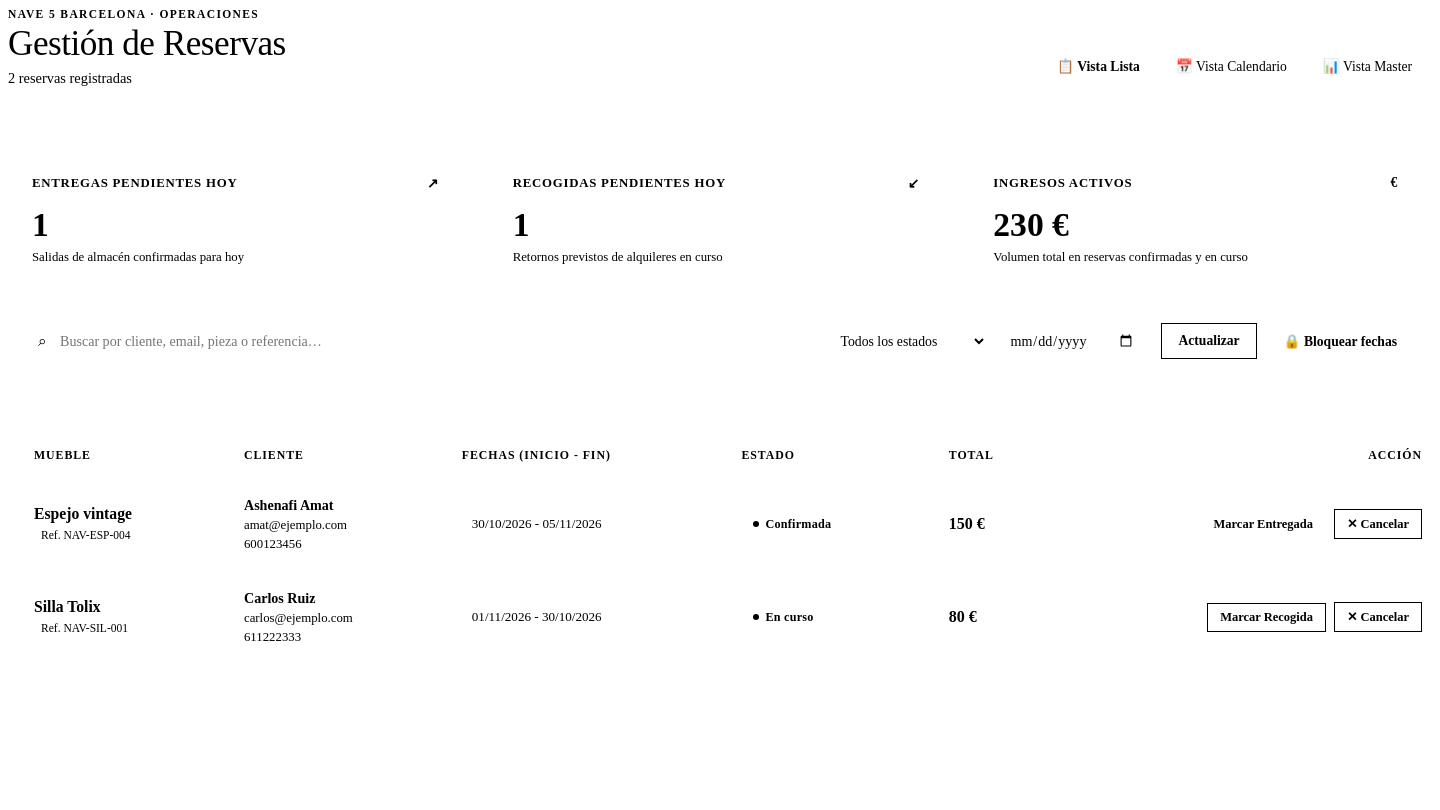
Scenario: ReservasTab — Panel Rediseñado de Reservas (Editorial, KPIs, 3 Vistas) › Buscador y Filtros › el selector de estado filtra por estado de reserva
Check: the text "Espejo vintage" is shown, box [34, 506, 132, 522]
Select "En curso" in the dropdown named "Filtrar por estado" at point(905, 342), box [822, 324, 988, 359]
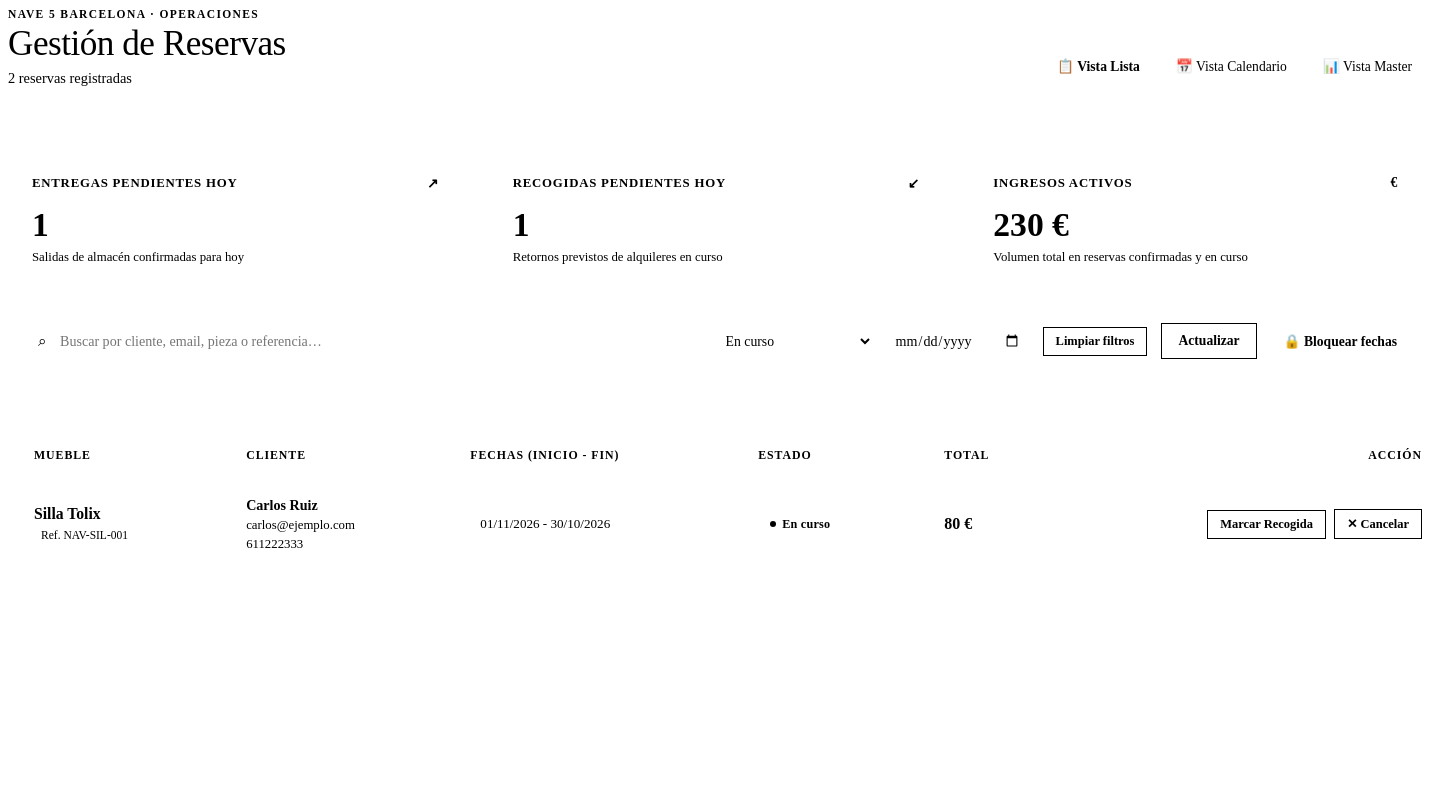
Check: the text "Silla Tolix" is shown, box [34, 506, 101, 522]
Check: the text "Espejo vintage" is gone
